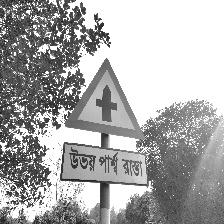Crossroad: (62, 58, 149, 186)
